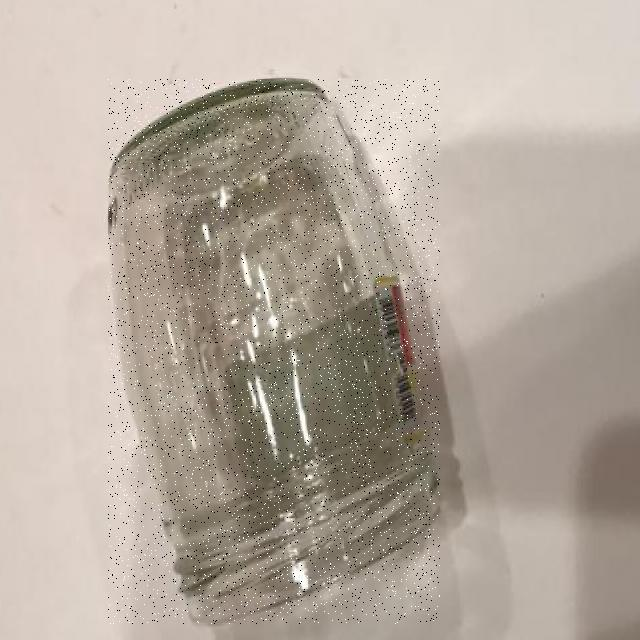glass: (108, 80, 440, 624)
